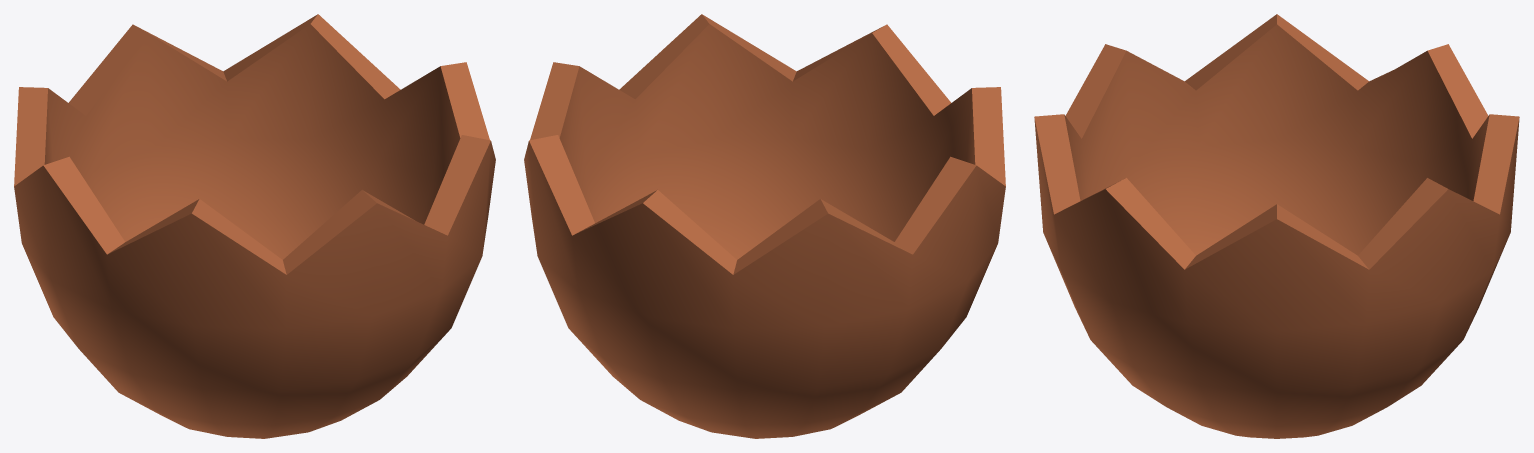
Rendered from Egg_Lower.fbx.
3 views of the same model, side by side, from view 1: azimuth 30°, elevation 25°; view 2: azimuth 150°, elevation 25°; view 3: azimuth 270°, elevation 25° (orthographic).
Visible parts, largest first — view 1: Egg_Lower; view 2: Egg_Lower; view 3: Egg_Lower.
Boxes of the visible parts, x1,y1,x2,y2 form: Egg_Lower: (14,14,495,438); Egg_Lower: (524,14,1005,438); Egg_Lower: (1034,14,1519,438).
Bounding box in the file's own units: 9.68 × 6.75 × 9.68.
